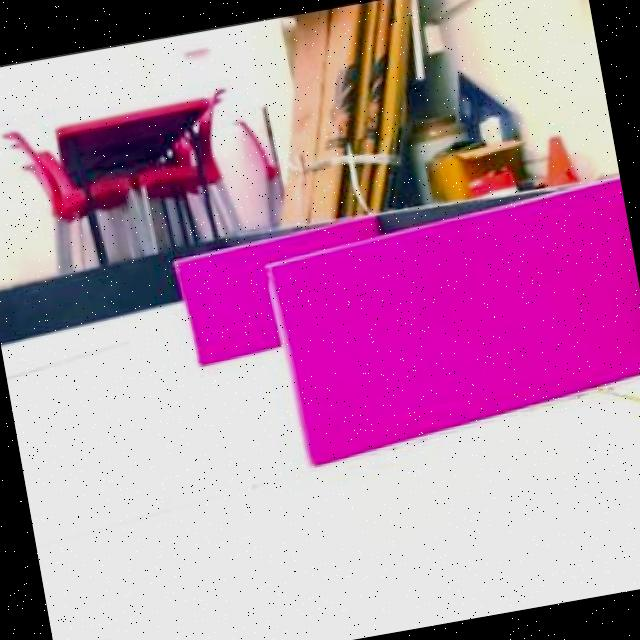xparking: (275, 200, 640, 444), (174, 240, 275, 359)
